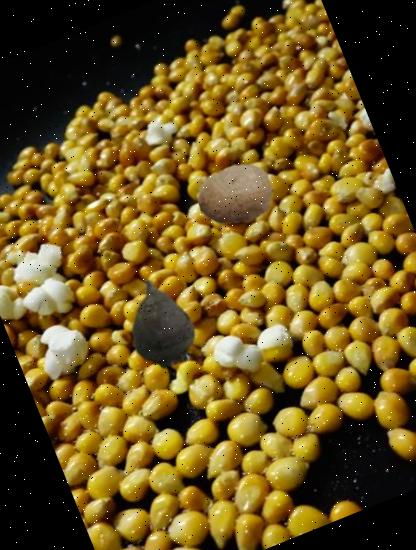Beetroot: (96, 258, 222, 384)
Kiwi: (186, 145, 286, 245)
